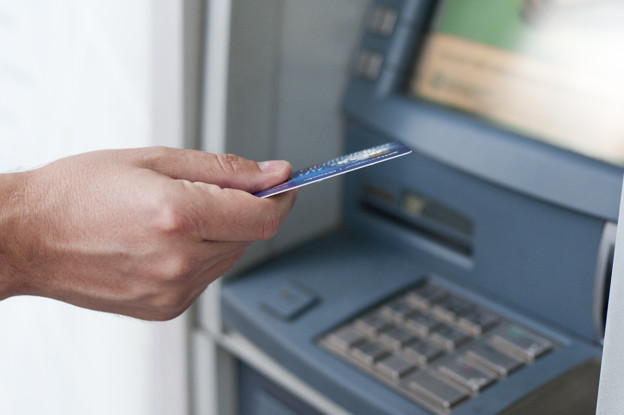tarjeta: (249, 139, 414, 202)
